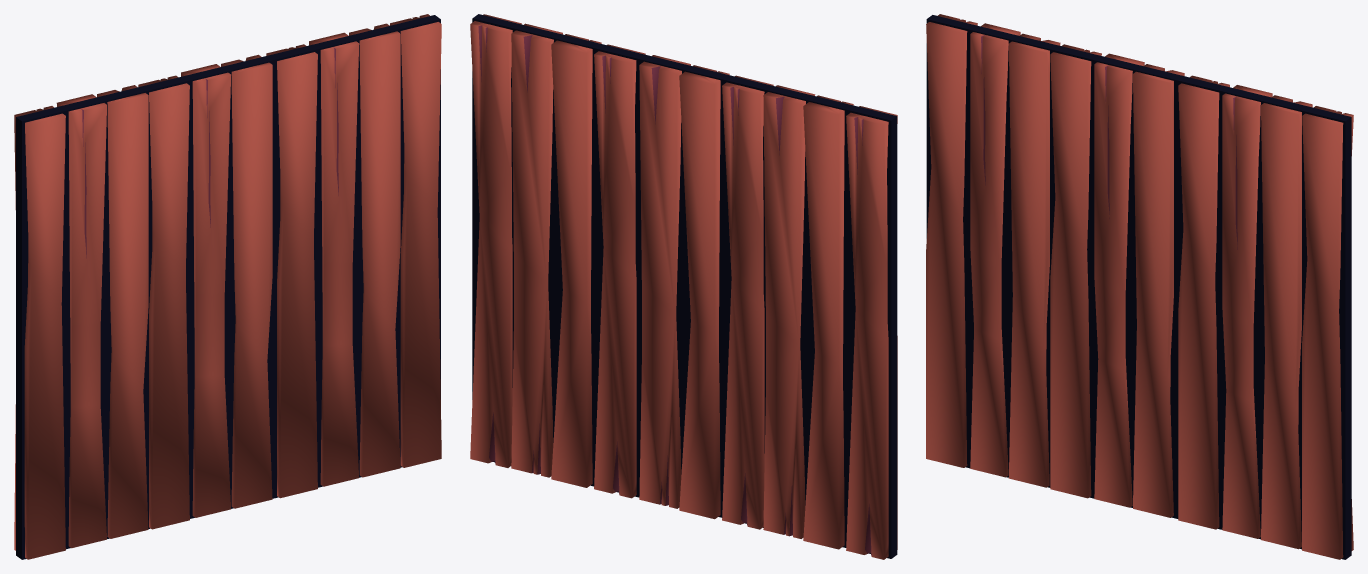
The model's file is wall_p_1.glb.
3 renders of one model, left to right at view 1: azimuth 30°, elevation 25°; view 2: azimuth 150°, elevation 25°; view 3: azimuth 330°, elevation 25°, orthographic.
Visible parts, largest first — view 1: Cube.007; view 2: Cube.007; view 3: Cube.007.
Boxes of the visible parts, bbox=[...] form: Cube.007: bbox=[14, 14, 441, 559]; Cube.007: bbox=[470, 14, 897, 559]; Cube.007: bbox=[926, 14, 1353, 559].
Bounding box in the file's own units: 4 × 4 × 0.2486.
1 material, 1 textured.
